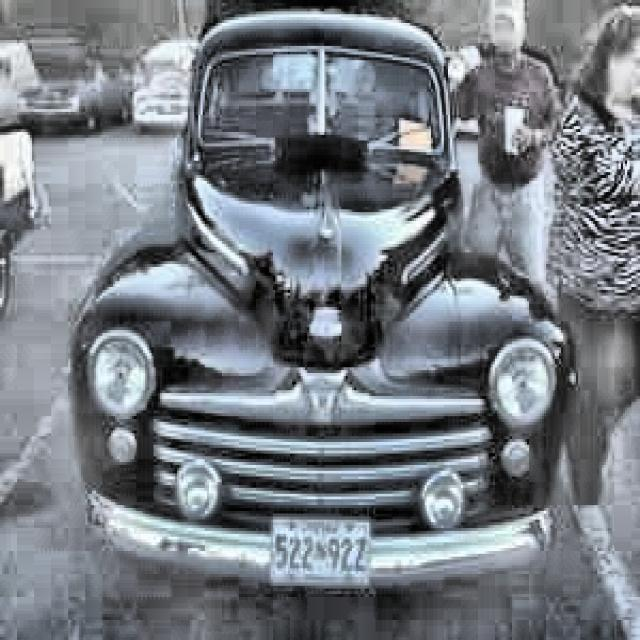license_plate: (268, 514, 374, 591)
